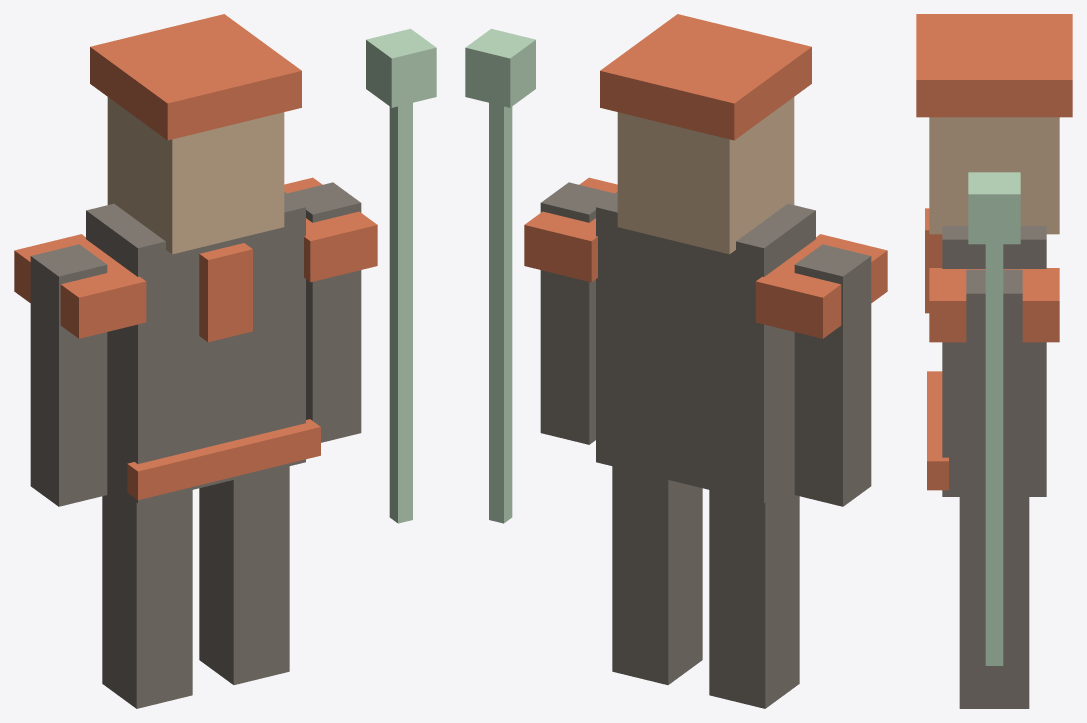
File: 17_nix_echohand_archivist_of_dry.glb
3 views of the same model, side by side, from view 1: azimuth 30°, elevation 25°; view 2: azimuth 150°, elevation 25°; view 3: azimuth 270°, elevation 25° (orthographic).
Visible parts, largest first — view 1: Nix Echohand, Archivist of Dry; view 2: Nix Echohand, Archivist of Dry; view 3: Nix Echohand, Archivist of Dry.
Boxes of the visible parts, x1,y1,x2,y2 form: Nix Echohand, Archivist of Dry: [14, 14, 436, 708]; Nix Echohand, Archivist of Dry: [465, 14, 887, 708]; Nix Echohand, Archivist of Dry: [916, 14, 1072, 708].
Bounding box in the file's own units: 1.05 × 1.64 × 0.3731.
